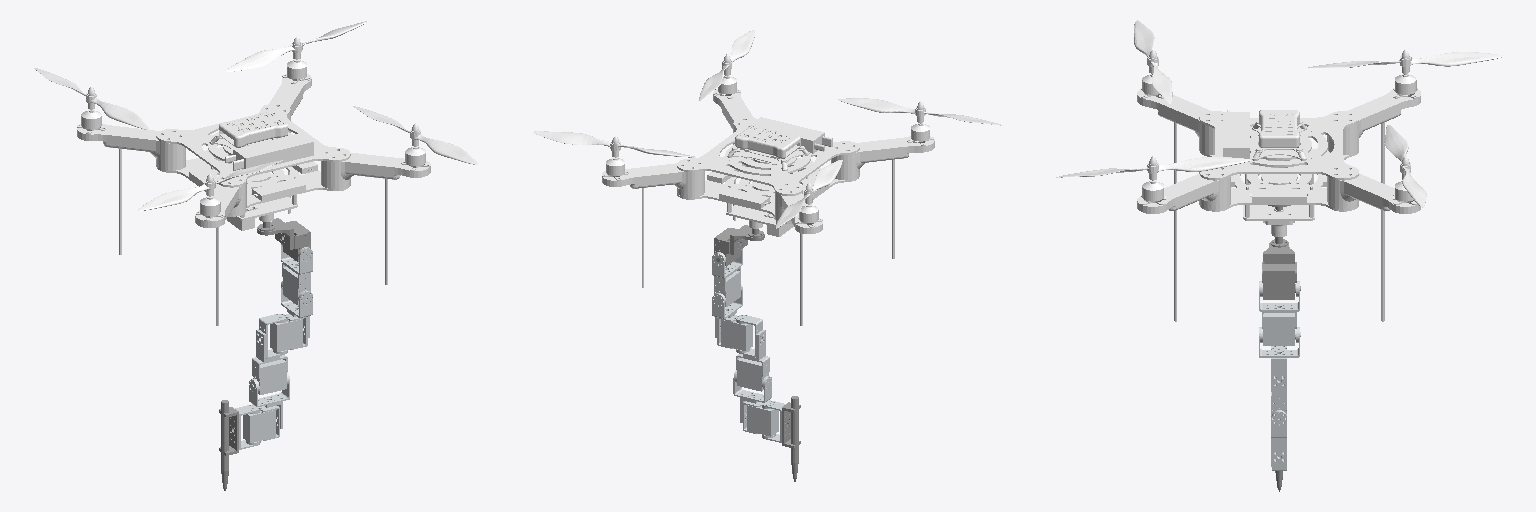
robot.urdf — hyper_robot3:
<?xml version="1.0" encoding="utf-8"?>
<!-- This URDF was automatically created by SolidWorks to URDF Exporter! Originally created by [author] ([email redacted]) 
     Commit Version: 1.6.0-4-g7f85cfe  Build Version: 1.6.7995.38578
     For more information, please see http://wiki.ros.org/sw_urdf_exporter -->
<robot
  name="hyper_robot3">
  <link
    name="base_link">
    <inertial>
      <origin
        xyz="-0.000803320869880134 -0.00731373046963779 -0.0278463343314682"
        rpy="0 0 0" />
      <mass
        value="1.40368130340825" />
      <inertia
        ixx="0.00177636643734576"
        ixy="-3.44701652632128E-06"
        ixz="2.18559647330608E-07"
        iyy="0.00196072881316131"
        iyz="2.70132816572321E-07"
        izz="0.00325252818954745" />
    </inertial>
    <visual>
      <origin
        xyz="0 0 0"
        rpy="0 0 0" />
      <geometry>
        <mesh
          filename="package://hyper_robot3/meshes/base_link.STL" />
      </geometry>
      <material
        name="">
        <color
          rgba="1 1 1 1" />
      </material>
    </visual>
    <collision>
      <origin
        xyz="0 0 0"
        rpy="0 0 0" />
      <geometry>
        <mesh
          filename="package://hyper_robot3/meshes/base_link.STL" />
      </geometry>
    </collision>
  </link>
  <link
    name="Link1">
    <inertial>
      <origin
        xyz="0.0309099144247066 3.50891689570778E-05 0.0299927465319913"
        rpy="0 0 0" />
      <mass
        value="0.111376814962611" />
      <inertia
        ixx="2.60049834559125E-05"
        ixy="-2.14003618510062E-13"
        ixz="2.80394421762354E-07"
        iyy="1.71770039286567E-05"
        iyz="3.7239251940777E-08"
        izz="1.70999664027471E-05" />
    </inertial>
    <visual>
      <origin
        xyz="0 0 0"
        rpy="0 0 0" />
      <geometry>
        <mesh
          filename="package://hyper_robot3/meshes/Link1.STL" />
      </geometry>
      <material
        name="">
        <color
          rgba="0.698039215686274 0.698039215686274 0.698039215686274 1" />
      </material>
    </visual>
    <collision>
      <origin
        xyz="0 0 0"
        rpy="0 0 0" />
      <geometry>
        <mesh
          filename="package://hyper_robot3/meshes/Link1.STL" />
      </geometry>
    </collision>
  </link>
  <joint
    name="Joint0"
    type="continuous">
    <origin
      xyz="0.0200000000000002 0 -0.18065"
      rpy="0 0 0" />
    <parent
      link="base_link" />
    <child
      link="Link1" />
    <axis
      xyz="0 0 1" />
  </joint>
  <link
    name="Link2">
    <inertial>
      <origin
        xyz="0.0446686988012228 -1.38777878078145E-17 -7.86271712631015E-06"
        rpy="0 0 0" />
      <mass
        value="0.0894767571212673" />
      <inertia
        ixx="1.9359201211197E-05"
        ixy="2.09586739945917E-21"
        ixz="3.72393866049131E-08"
        iyy="2.69273005195101E-05"
        iyz="-1.68149818549231E-19"
        izz="1.33710484389844E-05" />
    </inertial>
    <visual>
      <origin
        xyz="0 0 0"
        rpy="0 0 0" />
      <geometry>
        <mesh
          filename="package://hyper_robot3/meshes/Link2.STL" />
      </geometry>
      <material
        name="">
        <color
          rgba="0.898039215686275 0.917647058823529 0.929411764705882 1" />
      </material>
    </visual>
    <collision>
      <origin
        xyz="0 0 0"
        rpy="0 0 0" />
      <geometry>
        <mesh
          filename="package://hyper_robot3/meshes/Link2.STL" />
      </geometry>
    </collision>
  </link>
  <joint
    name="Joint1"
    type="continuous">
    <origin
      xyz="0.0464999999999984 0 0"
      rpy="1.57079632679491 1.5707963267949 0" />
    <parent
      link="Link1" />
    <child
      link="Link2" />
    <axis
      xyz="0 0 1" />
  </joint>
  <link
    name="Link3">
    <inertial>
      <origin
        xyz="0.0105758143488388 0.0485952481655531 3.44790531098091E-05"
        rpy="0 0 0" />
      <mass
        value="0.0928720201733155" />
      <inertia
        ixx="2.08057028424611E-05"
        ixy="1.92062202926441E-07"
        ixz="6.09264988036772E-12"
        iyy="1.71776970275677E-05"
        iyz="-4.72448982282403E-13"
        izz="2.32825203729412E-05" />
    </inertial>
    <visual>
      <origin
        xyz="0 0 0"
        rpy="0 0 0" />
      <geometry>
        <mesh
          filename="package://hyper_robot3/meshes/Link3.STL" />
      </geometry>
      <material
        name="">
        <color
          rgba="0.898039215686275 0.917647058823529 0.929411764705882 1" />
      </material>
    </visual>
    <collision>
      <origin
        xyz="0 0 0"
        rpy="0 0 0" />
      <geometry>
        <mesh
          filename="package://hyper_robot3/meshes/Link3.STL" />
      </geometry>
    </collision>
  </link>
  <joint
    name="Joint2"
    type="continuous">
    <origin
      xyz="0.06365 0 0"
      rpy="0 0 -1.5707963267949" />
    <parent
      link="Link2" />
    <child
      link="Link3" />
    <axis
      xyz="0 0 0.999999999996974" />
  </joint>
  <link
    name="Link4">
    <inertial>
      <origin
        xyz="0.015686311339037 -4.36235910004175E-15 -0.0226772146559401"
        rpy="0 0 0" />
      <mass
        value="0.0928720201733156" />
      <inertia
        ixx="1.75376387218201E-05"
        ixy="-1.3802697202162E-20"
        ixz="1.17583429717184E-07"
        iyy="2.76101513790207E-05"
        iyz="-4.43669822143267E-20"
        izz="1.61181301421293E-05" />
    </inertial>
    <visual>
      <origin
        xyz="0 0 0"
        rpy="0 0 0" />
      <geometry>
        <mesh
          filename="package://hyper_robot3/meshes/Link4.STL" />
      </geometry>
      <material
        name="">
        <color
          rgba="0.898039215686275 0.917647058823529 0.929411764705882 1" />
      </material>
    </visual>
    <collision>
      <origin
        xyz="0 0 0"
        rpy="0 0 0" />
      <geometry>
        <mesh
          filename="package://hyper_robot3/meshes/Link4.STL" />
      </geometry>
    </collision>
  </link>
  <joint
    name="Joint3"
    type="continuous">
    <origin
      xyz="0.0256499999999205 0.12365 0"
      rpy="-1.57079632679475 0 0" />
    <parent
      link="Link3" />
    <child
      link="Link4" />
    <axis
      xyz="0 0 1" />
  </joint>
  <link
    name="Link5">
    <inertial>
      <origin
        xyz="-3.57147381639393E-14 0.0485952481655512 0.0151086908042478"
        rpy="0 0 0" />
      <mass
        value="0.0928720201733155" />
      <inertia
        ixx="2.76101513790206E-05"
        ixy="6.98496329375289E-18"
        ixz="1.1562062273571E-19"
        iyy="1.71776970275677E-05"
        iyz="-1.92062202926933E-07"
        izz="1.64780718363817E-05" />
    </inertial>
    <visual>
      <origin
        xyz="0 0 0"
        rpy="0 0 0" />
      <geometry>
        <mesh
          filename="package://hyper_robot3/meshes/Link5.STL" />
      </geometry>
      <material
        name="">
        <color
          rgba="0.898039215686275 0.917647058823529 0.929411764705882 1" />
      </material>
    </visual>
    <collision>
      <origin
        xyz="0 0 0"
        rpy="0 0 0" />
      <geometry>
        <mesh
          filename="package://hyper_robot3/meshes/Link5.STL" />
      </geometry>
    </collision>
  </link>
  <joint
    name="Joint4"
    type="continuous">
    <origin
      xyz="0.0416500000000051 0 0"
      rpy="1.57079632679479 0 -1.5707963267949" />
    <parent
      link="Link4" />
    <child
      link="Link5" />
    <axis
      xyz="0 0 1" />
  </joint>
  <link
    name="Link6">
    <inertial>
      <origin
        xyz="7.03662053644458E-15 0.0120248381799546 0.0572000217816001"
        rpy="0 0 0" />
      <mass
        value="0.0160210321477213" />
      <inertia
        ixx="6.1379895748013E-06"
        ixy="-3.87601853703786E-19"
        ixz="-4.75315674835079E-20"
        iyy="5.33421839756244E-06"
        iyz="-2.6389547841809E-21"
        izz="1.81035856873693E-06" />
    </inertial>
    <visual>
      <origin
        xyz="0 0 0"
        rpy="0 0 0" />
      <geometry>
        <mesh
          filename="package://hyper_robot3/meshes/Link6.STL" />
      </geometry>
      <material
        name="">
        <color
          rgba="0.898039215686275 0.917647058823529 0.929411764705882 1" />
      </material>
    </visual>
    <collision>
      <origin
        xyz="0 0 0"
        rpy="0 0 0" />
      <geometry>
        <mesh
          filename="package://hyper_robot3/meshes/Link6.STL" />
      </geometry>
    </collision>
  </link>
  <joint
    name="Joint5"
    type="continuous">
    <origin
      xyz="0 0 0"
      rpy="-1.57079632679479 0 0" />
    <parent
      link="Link5" />
    <child
      link="Link6" />
    <axis
      xyz="0 0 1" />
  </joint>
  <link
    name="end_effector">
    <inertial>
      <origin
        xyz="-1.7719E-08 -0.0022804 -0.076313"
        rpy="0 0 0" />
      <mass
        value="0.015815" />
      <inertia
        ixx="1.637E-05"
        ixy="-1.9417E-13"
        ixz="1.9043E-11"
        iyy="1.6416E-05"
        iyz="1.6425E-11"
        izz="3.701E-07" />
    </inertial>
    <visual>
      <origin
        xyz="0 0 0"
        rpy="0 0 0" />
      <geometry>
        <mesh
          filename="package://hyper_robot3/meshes/end_effector.STL" />
      </geometry>
      <material
        name="">
        <color
          rgba="0.69804 0.69804 0.69804 1" />
      </material>
    </visual>
    <collision>
      <origin
        xyz="0 0 0"
        rpy="0 0 0" />
      <geometry>
        <mesh
          filename="package://hyper_robot3/meshes/end_effector.STL" />
      </geometry>
    </collision>
  </link>
  <joint
    name="JointEnd"
    type="fixed">
    <origin
      xyz="0 0.043 0.144"
      rpy="0 0 0" />
    <parent
      link="Link6" />
    <child
      link="end_effector" />
    <axis
      xyz="0 0 1" />
  </joint>
</robot>

--- Facts derived from the render (not from the file) ---
3 views of the same robot in one strip: view 1: azimuth 30°, elevation 25°; view 2: azimuth 150°, elevation 25°; view 3: azimuth 270°, elevation 25° (orthographic).
Model hyper_robot3 with 8 links and 7 joints (6 continuous, 1 fixed), rooted at base_link, posed every joint at zero.
Links seen in each view (by area): view 1: base_link, Link4, Link5, Link3, Link2, Link1, end_effector; view 2: base_link, Link5, Link4, Link3, Link2, Link1, end_effector; view 3: base_link, Link1, Link2, Link3, Link5.
Boxes of the visible links, left/top/right/bottom form: base_link: left=34, top=21, right=478, bottom=325; Link4: left=251, top=314, right=287, bottom=394; Link5: left=243, top=372, right=289, bottom=442; Link3: left=270, top=281, right=312, bottom=351; Link2: left=281, top=244, right=312, bottom=305; Link1: left=257, top=218, right=310, bottom=261; end_effector: left=219, top=400, right=238, bottom=490; base_link: left=533, top=30, right=1002, bottom=325; Link5: left=733, top=370, right=778, bottom=436; Link4: left=736, top=315, right=769, bottom=391; Link3: left=712, top=285, right=752, bottom=350; Link2: left=712, top=249, right=742, bottom=306; Link1: left=714, top=225, right=764, bottom=266; end_effector: left=782, top=396, right=800, bottom=481; base_link: left=1056, top=20, right=1503, bottom=321; Link1: left=1262, top=205, right=1300, bottom=299; Link2: left=1259, top=281, right=1300, bottom=345; Link3: left=1259, top=327, right=1299, bottom=394; Link5: left=1271, top=410, right=1286, bottom=470.
Bounding box of the posed robot: 0.5619 × 0.5616 × 0.557 m (x, y, z).
Meshes: 8 distinct files referenced, 8 mesh visuals loaded (8 binary STL).